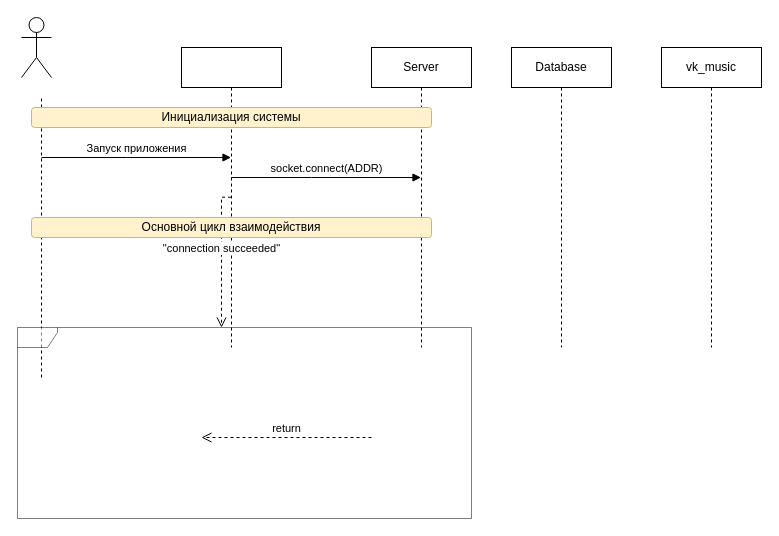
Image size: 779x536. Some labels were removed from this diagram. The box of each missing label's shape, as (x1, y1, x2, y2) in pixels:
Actor: (20, 16, 52, 78)
Client: (180, 46, 282, 348)
loop: (16, 326, 472, 518)
